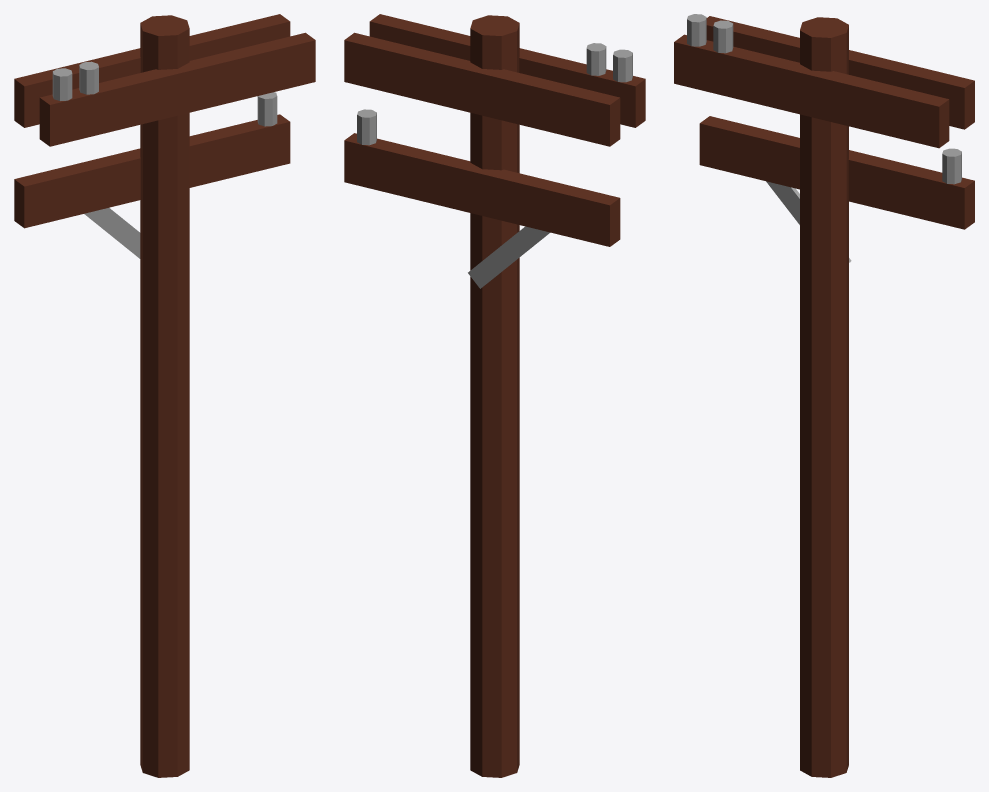
Rendered from slup.gltf.
3 views of the same model, side by side, from view 1: azimuth 30°, elevation 25°; view 2: azimuth 150°, elevation 25°; view 3: azimuth 330°, elevation 25° (orthographic).
Visible parts, largest first — view 1: Cylinder, Cube.002, Cube.003, Cube.001, Cube.004, Cylinder.003, Cylinder.006, Cylinder.005; view 2: Cylinder, Cube.001, Cube.003, Cube.002, Cube.004, Cylinder.003, Cylinder.005, Cylinder.006; view 3: Cylinder, Cube.002, Cube.003, Cube.001, Cylinder.003, Cylinder.005, Cube.004, Cylinder.006.
Part boxes in pixels (<box>): Cylinder: <box>140,15,189,777</box>; Cube.002: <box>39,32,315,146</box>; Cube.003: <box>14,114,290,228</box>; Cube.001: <box>14,14,290,127</box>; Cube.004: <box>84,208,140,258</box>; Cylinder.003: <box>257,92,277,126</box>; Cylinder.006: <box>52,68,72,100</box>; Cylinder.005: <box>79,61,98,94</box>; Cylinder: <box>470,15,519,777</box>; Cube.001: <box>344,32,620,146</box>; Cube.003: <box>344,133,620,246</box>; Cube.002: <box>369,14,645,127</box>; Cube.004: <box>468,226,549,288</box>; Cylinder.003: <box>357,109,376,145</box>; Cylinder.005: <box>586,43,606,75</box>; Cylinder.006: <box>613,49,632,82</box>; Cylinder: <box>800,17,848,777</box>; Cube.002: <box>674,34,949,148</box>; Cube.003: <box>699,116,974,229</box>; Cube.001: <box>706,16,974,129</box>; Cylinder.003: <box>942,148,961,184</box>; Cylinder.005: <box>713,20,733,53</box>; Cube.004: <box>766,181,851,262</box>; Cylinder.006: <box>687,14,706,46</box>.
Size of the model in its own units: 3 by 8 by 0.7.
